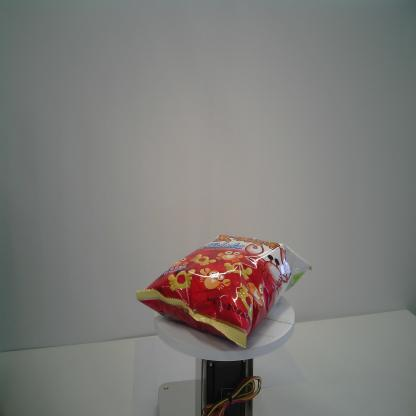Puffed Food: (136, 233, 312, 348)
